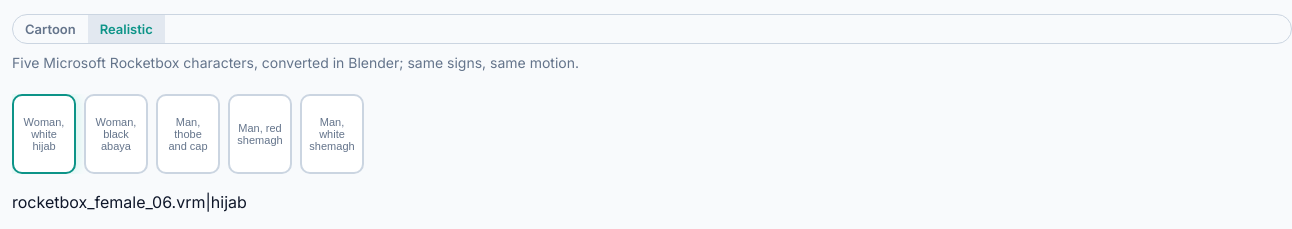
Test case: switching style swaps the avatar and back, remembering the realistic choice
The image size is (1292, 229).
Expected: the text with test id "cur" reads "rocketbox_female_06.vrm|hijab", [12, 192, 206, 212]
Step 1. Click the radio button titled "Man, red shemagh" → (260,134), box [228, 94, 292, 174]
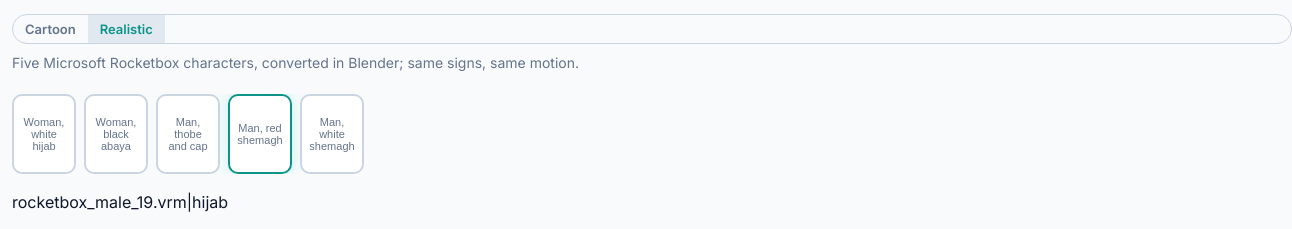
Step 2. Click the radio button "Cartoon" → (50,29), box [13, 15, 88, 43]
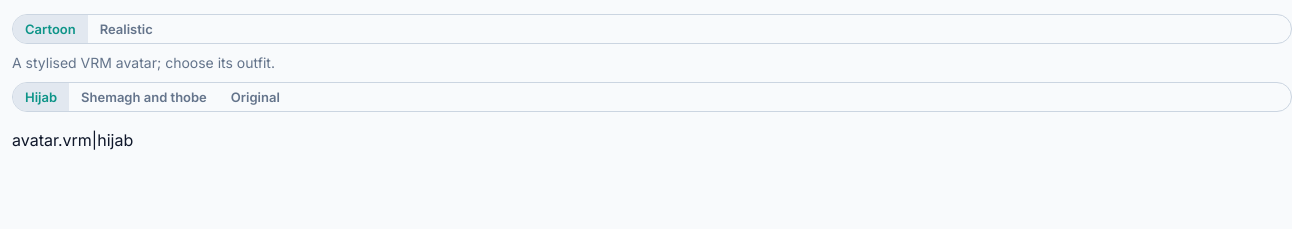
Expected: the text with test id "cur" reads "avatar.vrm|hijab", [12, 130, 92, 150]
Step 3. Click the radio button "Shemagh and thobe" → (144,97), box [69, 83, 219, 111]
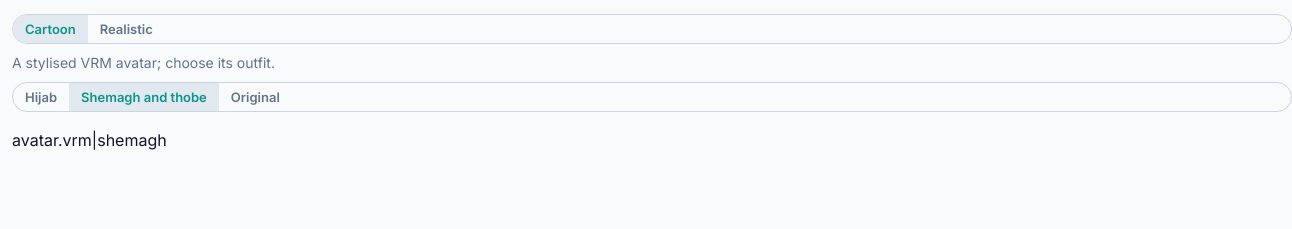
Expected: the text with test id "cur" reads "avatar.vrm|shemagh", [12, 130, 92, 150]
Step 4. Click the radio button "Realistic" → (126,29), box [88, 15, 165, 43]
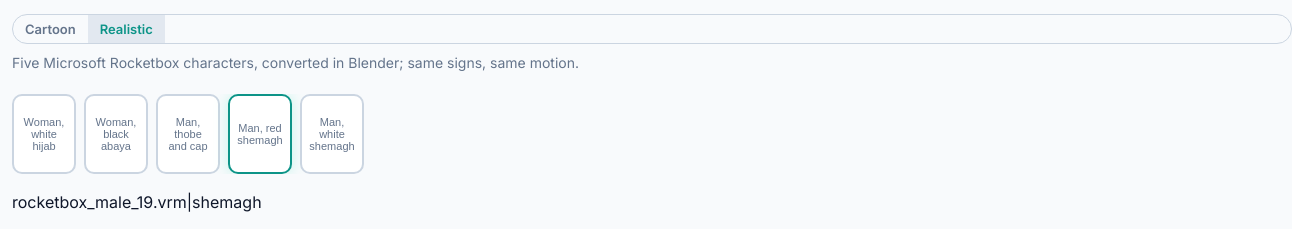
Expected: the text with test id "cur" reads "rocketbox_male_19.vrm|shemagh", [12, 192, 187, 212]
